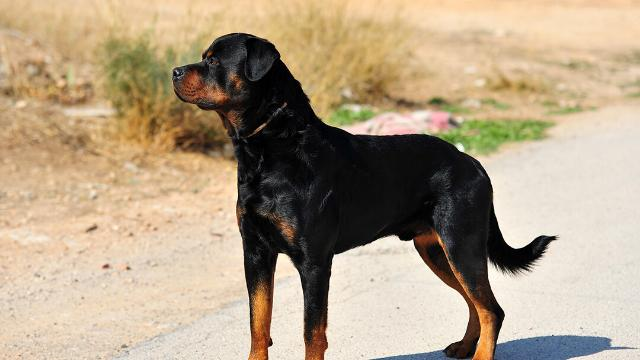dog: (168, 26, 562, 360)
